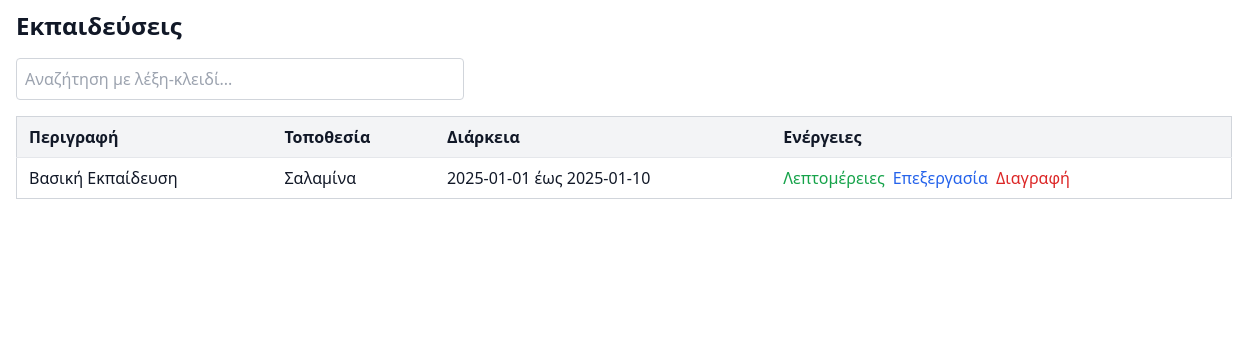
Test: TrainingList › εμφανίζει λεπτομέρειες προσωπικού όταν γίνει expand
Step 1. Click the button "Λεπτομέρειες" → (834, 178), box [783,166,885,190]
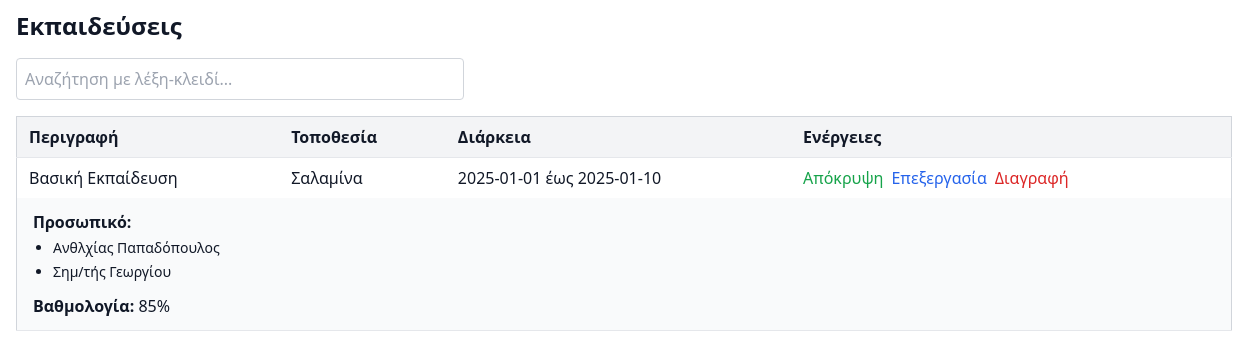
Now the list item "Ανθλχίας Παπαδόπουλος" is shown, box [53,238,220,257]
Now the list item "Σημ/τής Γεωργίου" is shown, box [53,262,171,281]
Now the text "Βαθμολογία:" is shown, box [33,295,134,317]
